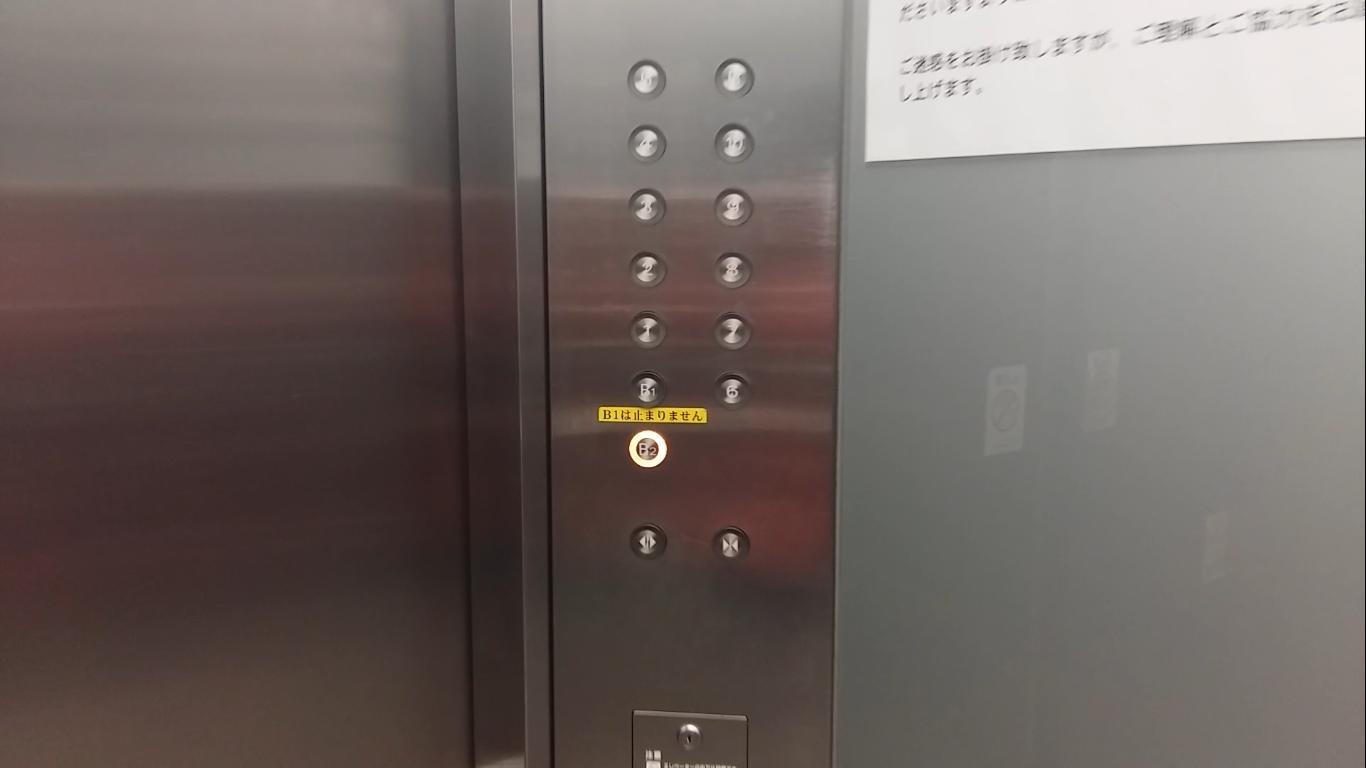1: (626, 310, 668, 351)
10: (715, 122, 751, 164)
2: (628, 247, 669, 291)
3: (628, 189, 669, 226)
4: (626, 123, 669, 165)
5: (625, 58, 667, 100)
6: (713, 370, 753, 412)
7: (713, 311, 753, 351)
8: (713, 251, 752, 291)
9: (713, 184, 755, 229)
B1: (629, 370, 666, 408)
B2: (626, 429, 668, 469)
blur: (714, 57, 755, 100)
close: (712, 524, 751, 563)
open: (628, 522, 667, 561)
